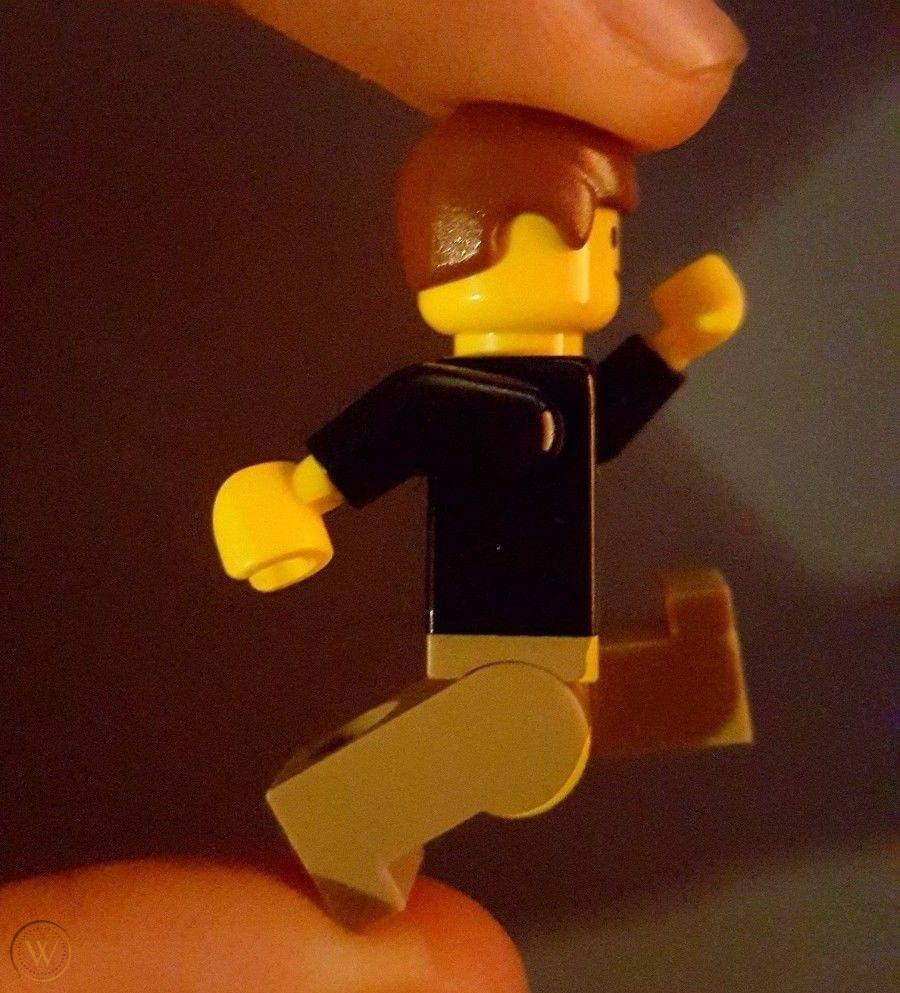lego: (199, 93, 803, 942)
